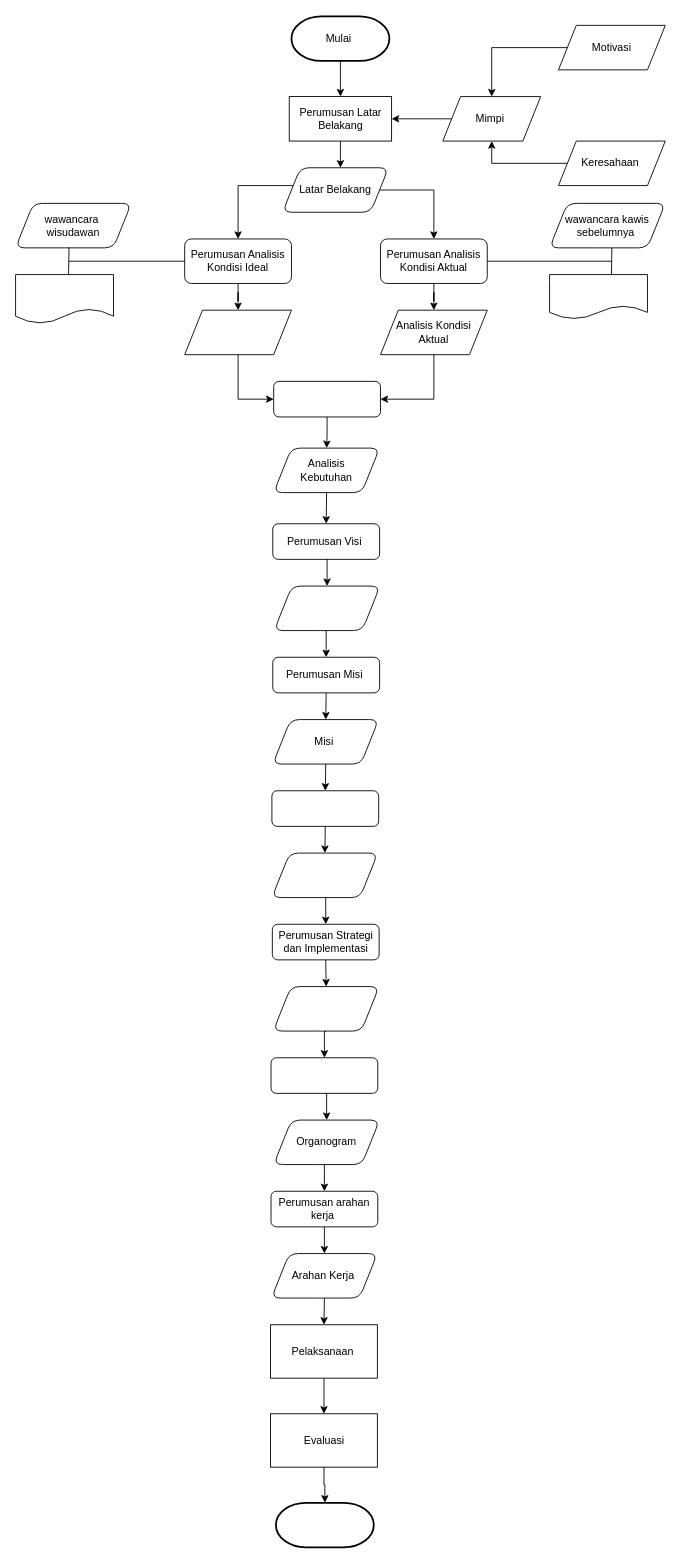
This 681x1563 diagram has some shape labels left out. The centre of each missing label's shape, as x and y in pixels:
AD/ART IMT "Signum" ITB: pixel 64 299
Analisis Kondisi ideal: pixel 237 332
LPJ Wisuda IMT "Signum" ITB: pixel 598 296
Perumusan Analisis Kebutuhan: pixel 326 398
Perumusan Organogram: pixel 324 1075
Perumusan Tema: pixel 325 808
Selesai: pixel 324 1524
Strategi dan Implementasi: pixel 325 1008
Tema: pixel 324 875
Visi: pixel 326 608
